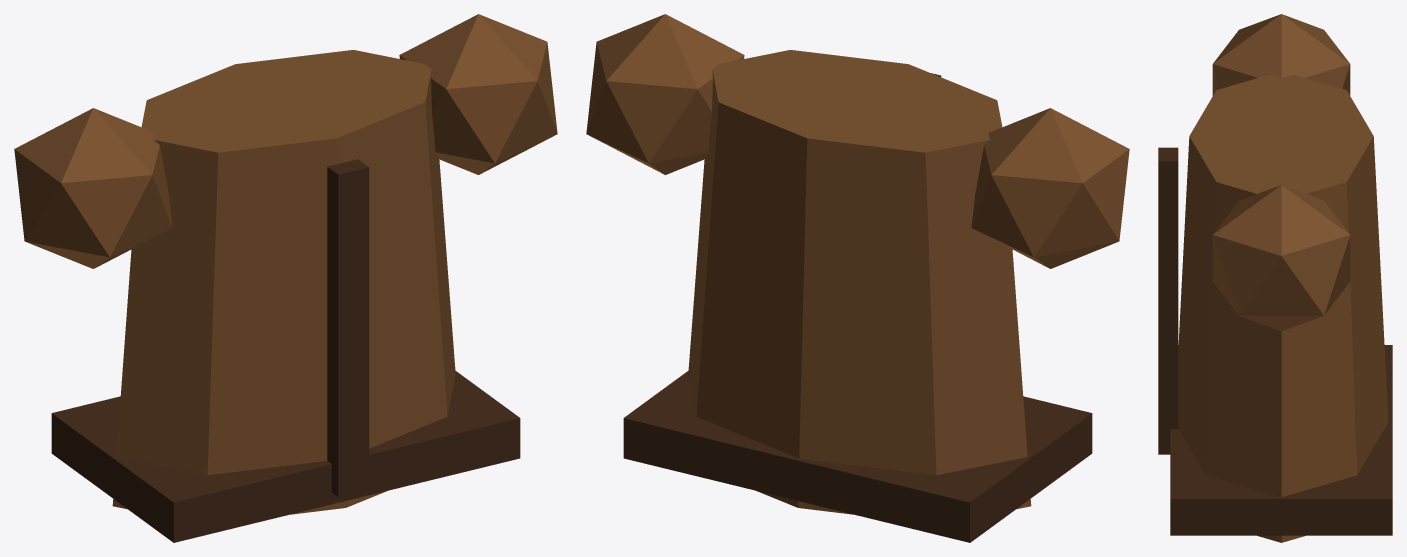
Rendered from SM_GZ_item_leather_armor.fbx.
The picture shows the model from 3 angles, left to right: view 1: azimuth 30°, elevation 25°; view 2: azimuth 150°, elevation 25°; view 3: azimuth 270°, elevation 25°; orthographic projection. The views are drawn at different scales.
Parts seen in each view (by area): view 1: SM_GZ_item_leather_armor; view 2: SM_GZ_item_leather_armor; view 3: SM_GZ_item_leather_armor.
Boxes of the visible parts, bbox=[...] form: SM_GZ_item_leather_armor: bbox=[14, 14, 557, 542]; SM_GZ_item_leather_armor: bbox=[586, 14, 1129, 542]; SM_GZ_item_leather_armor: bbox=[1158, 14, 1392, 542].
Size of the model in its own units: 136 by 100 by 58.
